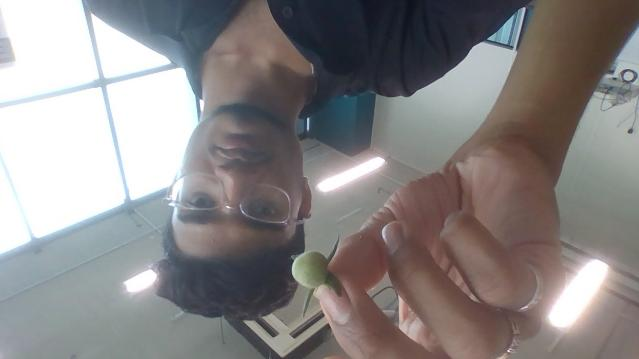Fruit Maturation: (290, 250, 331, 290)
